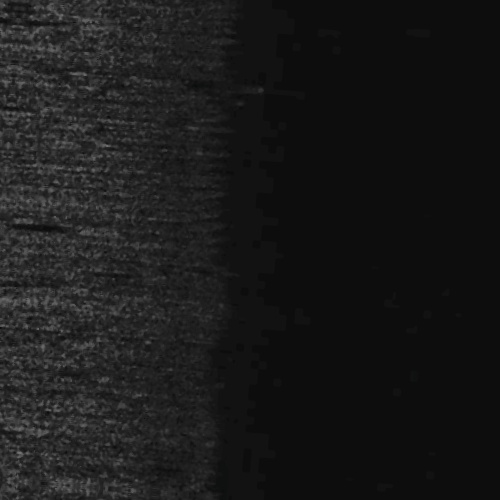object: (60, 237, 113, 244)
shadow: (0, 237, 86, 244)
